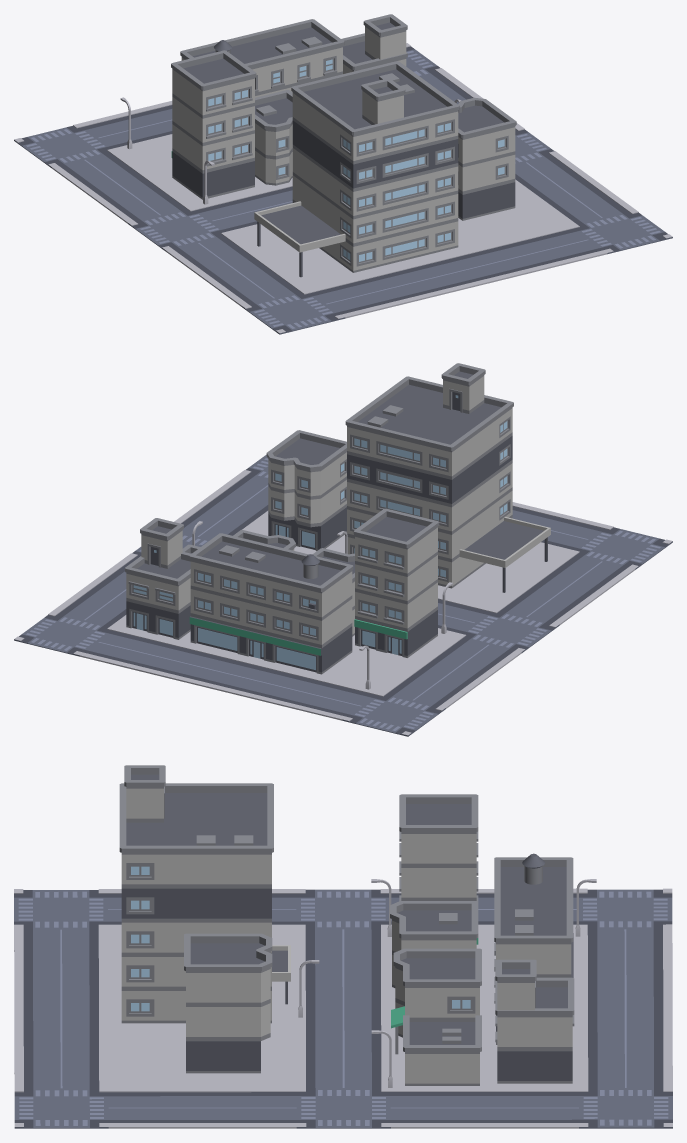
The model's file is city_block6.fbx.
The picture shows the model from 3 angles, top to bottom: view 1: azimuth 30°, elevation 25°; view 2: azimuth 150°, elevation 25°; view 3: azimuth 270°, elevation 25°; orthographic projection. The views are drawn at different scales.
Visible parts, largest first — view 1: large_buildingG, large_buildingB, large_buildingF, small_buildingA, small_buildingB, small_buildingF, road_straight__18_, road_straight__16_, road_straight__17_, road_straight__19_, road_crossroadPath__5_, road_crossroadPath__4_ (+20 smaller); view 2: large_buildingG, large_buildingF, large_buildingB, small_buildingA, small_buildingF, road_straight__10_, road_straight__11_, road_straight__8_, road_straight__9_, road_crossroadPath__2_, road_crossroadPath__3_, road_straight__5_ (+17 smaller); view 3: large_buildingG, small_buildingA, small_buildingE, small_buildingF, large_buildingF, large_buildingB, small_buildingB, road_straight__14_, road_straight__15_, road_straight__12_, road_straight__13_, road_crossroadPath__4_ (+33 smaller).
Part boxes in pixels (x1,y1,x2,y2): large_buildingG: (254,61,459,277); large_buildingB: (171,50,256,199); large_buildingF: (180,19,344,97); small_buildingA: (458,97,516,220); small_buildingB: (255,90,292,185); small_buildingF: (341,14,407,73); road_straight__18_: (373,257,476,302); road_straight__16_: (504,225,607,270); road_straight__17_: (307,273,410,318); road_straight__19_: (438,241,541,286); road_crossroadPath__5_: (241,289,345,334); road_crossroadPath__4_: (570,209,672,254); large_buildingG: (345,363,550,592); large_buildingF: (189,533,353,674); large_buildingB: (353,508,439,657); small_buildingA: (266,430,346,550); small_buildingF: (125,518,191,639); road_straight__10_: (145,643,248,688); road_straight__11_: (79,627,182,672); road_straight__8_: (276,675,379,720); road_straight__9_: (211,659,313,704); road_crossroadPath__2_: (342,691,445,736); road_crossroadPath__3_: (14,611,116,656); road_straight__5_: (532,553,635,597); large_buildingG: (119,765,290,1023); small_buildingA: (184,933,272,1073); small_buildingE: (391,948,481,1085); small_buildingF: (495,959,574,1083); large_buildingF: (494,853,573,1044); large_buildingB: (399,794,478,944); small_buildingB: (390,901,478,987); road_straight__14_: (202,1087,296,1128); road_straight__15_: (108,1087,202,1128); road_straight__12_: (390,1087,484,1128); road_straight__13_: (484,1087,578,1128); road_crossroadPath__4_: (14,1087,108,1128).
Size of the model in its own units: 601 by 248 by 701.
